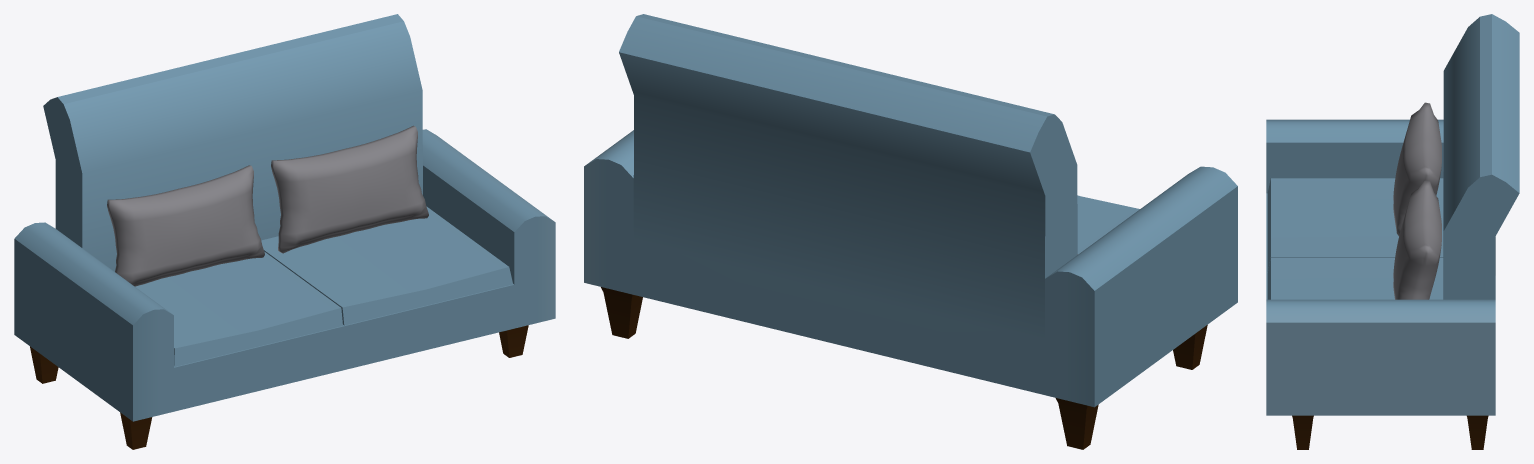
Rendered from Koltuk.fbx.
3 renders of one model, left to right at view 1: azimuth 30°, elevation 25°; view 2: azimuth 150°, elevation 25°; view 3: azimuth 270°, elevation 25°, orthographic. The views are drawn at different scales.
Visible parts, largest first — view 1: Koltuk, Koltuk_Yastık_1, Koltuk_Yastık_2; view 2: Koltuk; view 3: Koltuk, Koltuk_Yastık_1, Koltuk_Yastık_2.
Boxes of the visible parts, x1=… form: Koltuk: x1=14, y1=14, x2=555, y2=449; Koltuk_Yastık_1: x1=271, y1=125, x2=428, y2=253; Koltuk_Yastık_2: x1=107, y1=165, x2=264, y2=286; Koltuk: x1=584, y1=14, x2=1237, y2=449; Koltuk: x1=1266, y1=14, x2=1519, y2=449; Koltuk_Yastık_1: x1=1393, y1=180, x2=1441, y2=299; Koltuk_Yastık_2: x1=1393, y1=102, x2=1441, y2=236.
Bounding box in the file's own units: 363 × 224 × 195.
